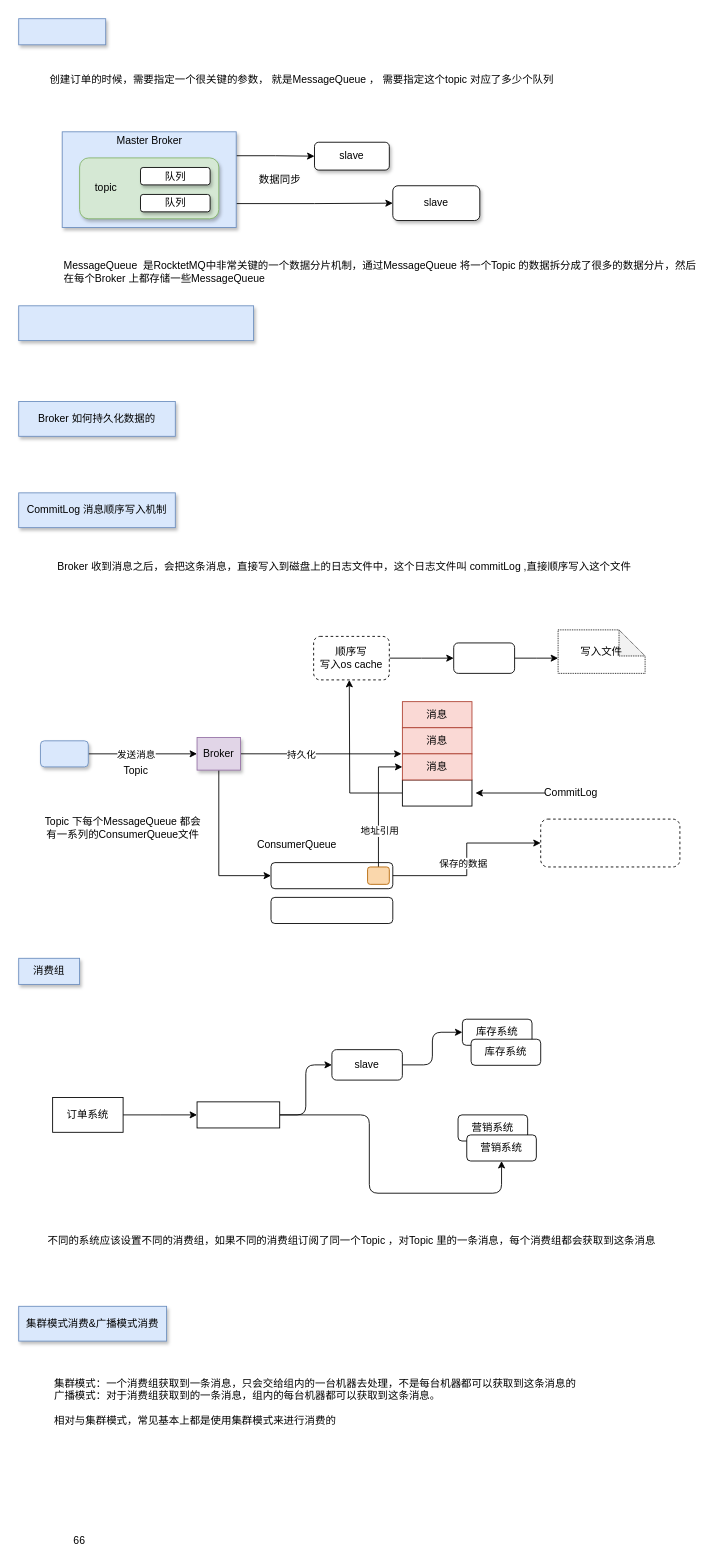
The diagram is 718 pixels wide and 1565 high, and some of its shapes have lost their labels. Here are the shapes that lost their labels. From the top down, the centre of each, then its label:
At point (62, 32): "MessageQueue".
At point (136, 324): "生产者发消息的时候存入哪个MessageQueue".
At point (484, 657): "系统线程".
At point (65, 754): "生产者".
At point (610, 842): "一条消息对应在CommitLog 文件中的Offset 偏移量 ，消息的长度， tag的hashcode".
At point (238, 1114): "master".
